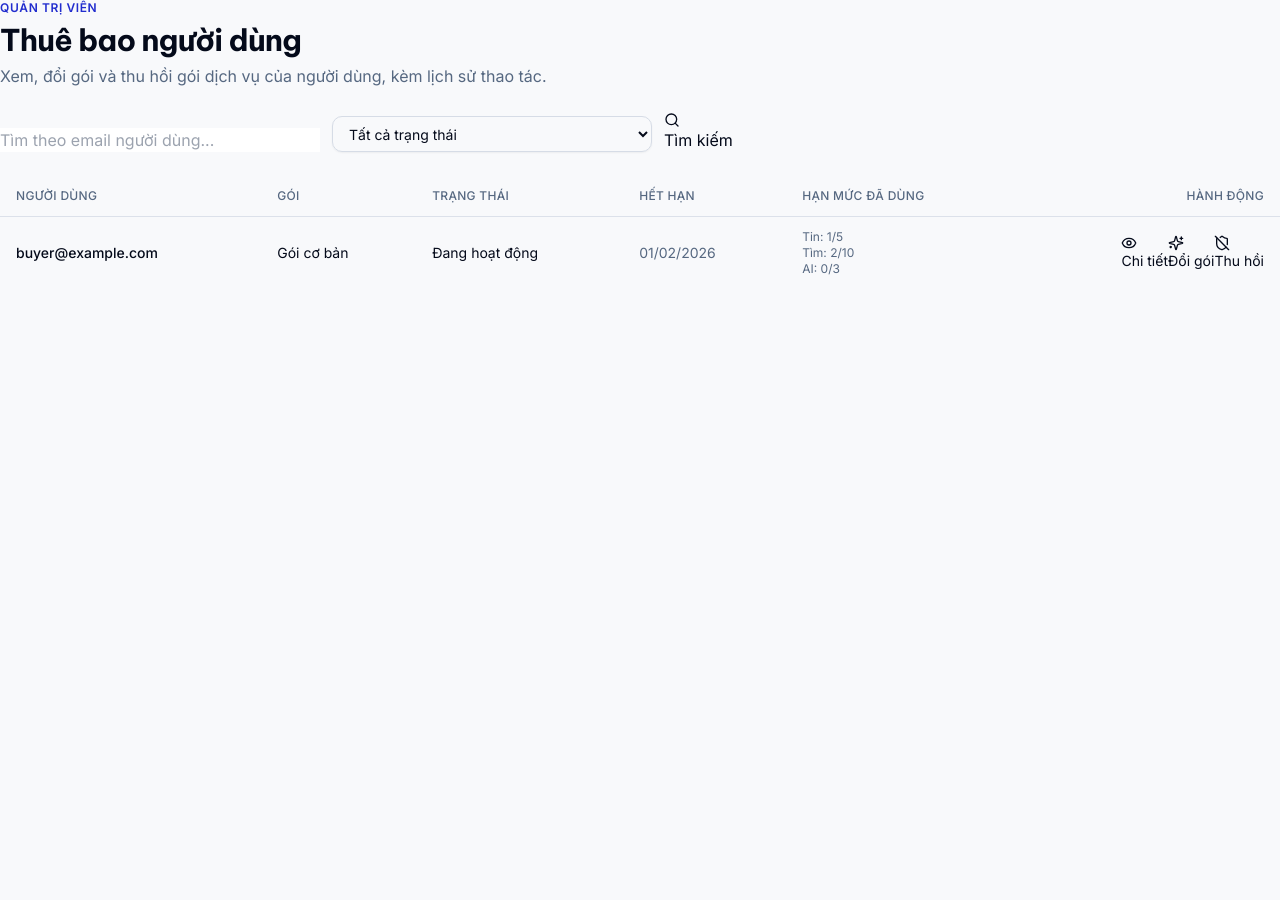
it: AdminSubscriptionsPage › loads detail with audit trail
Expected: the text "buyer@example.com" is shown, left=16, top=244, right=158, bottom=261
Click the button with aria-label "xem chi tiết thuê bao buyer@example.com": point(1145, 253) left=1122, top=235, right=1168, bottom=271
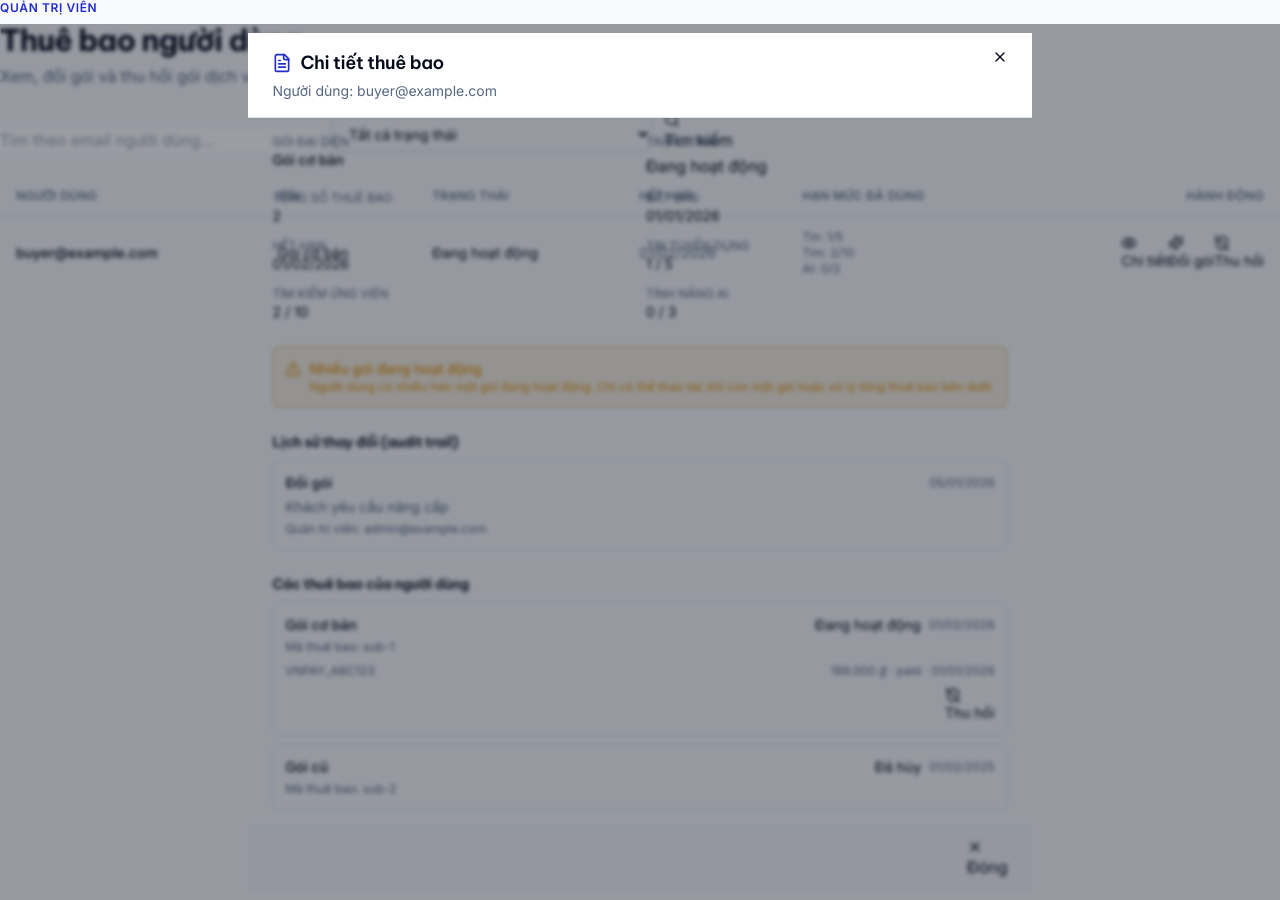
Result: the heading "Lịch sử thay đổi (audit trail)" is shown at left=272, top=433, right=458, bottom=451
Result: the text "Khách yêu cầu nâng cấp" is shown at left=285, top=498, right=449, bottom=515
Result: the text "Tin tuyển dụng" is shown at left=646, top=238, right=749, bottom=253
